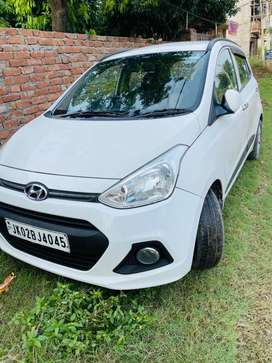JK02BJ4045: (3, 217, 70, 251)
